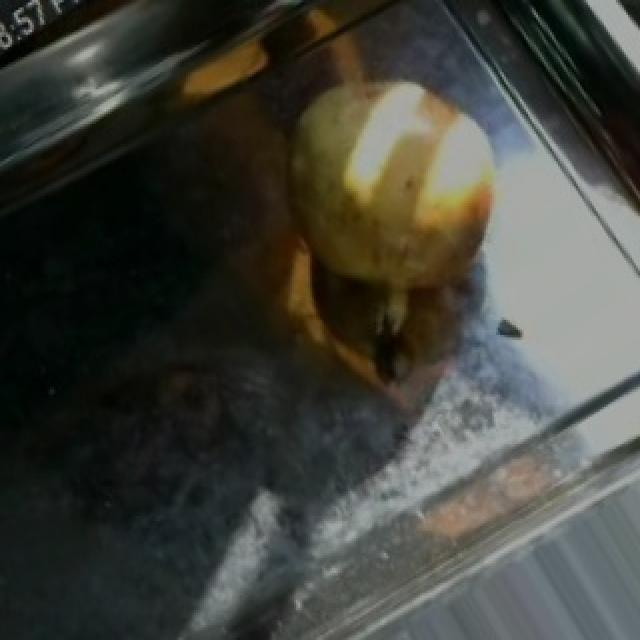fruit: (264, 47, 530, 330)
